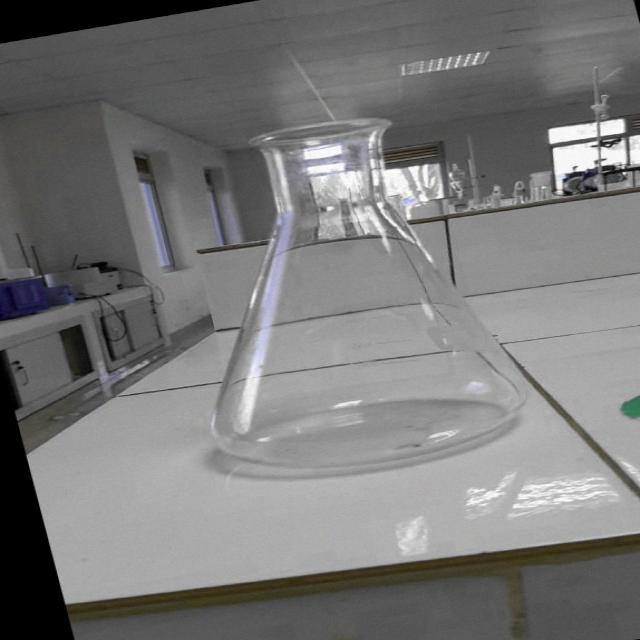Conical Flask: (118, 97, 564, 503)
